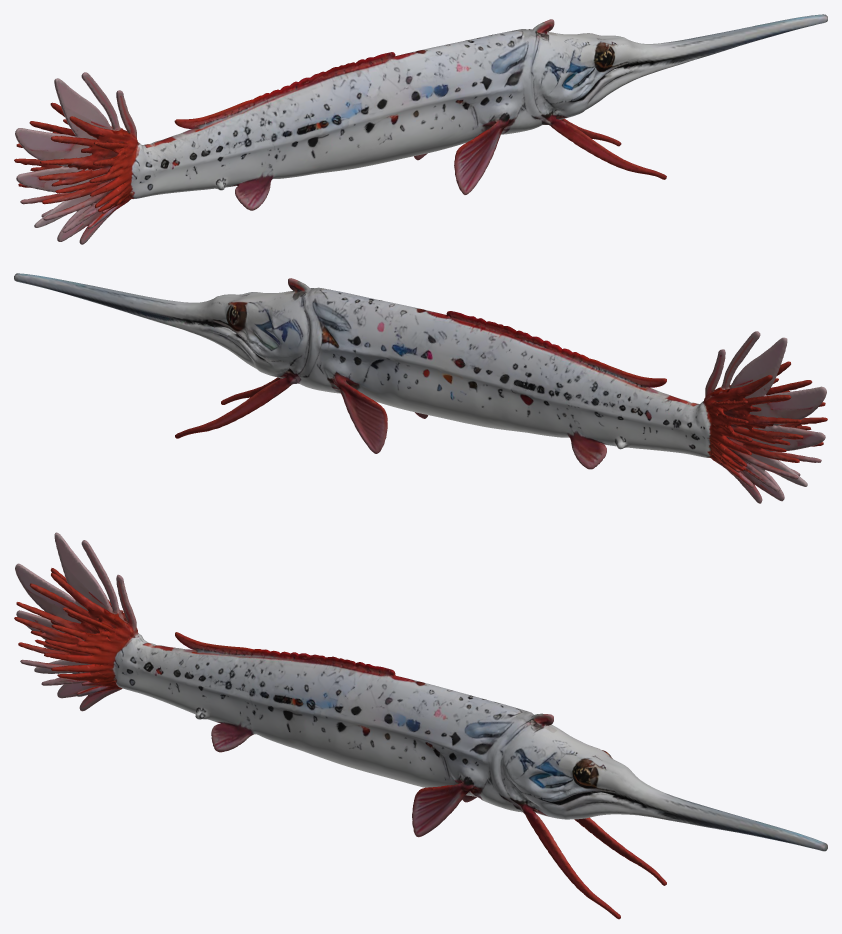
Rendered from oar_b.glb.
The picture shows the model from 3 angles, top to bottom: view 1: azimuth 30°, elevation 25°; view 2: azimuth 150°, elevation 25°; view 3: azimuth 330°, elevation 25°; orthographic projection.
Visible parts, largest first — view 1: tripo_node_e1db38b4-6c66-4184-b2c8-56818ab8327f; view 2: tripo_node_e1db38b4-6c66-4184-b2c8-56818ab8327f; view 3: tripo_node_e1db38b4-6c66-4184-b2c8-56818ab8327f.
Boxes of the visible parts, bbox=[...] form: tripo_node_e1db38b4-6c66-4184-b2c8-56818ab8327f: bbox=[14, 14, 827, 244]; tripo_node_e1db38b4-6c66-4184-b2c8-56818ab8327f: bbox=[14, 273, 827, 503]; tripo_node_e1db38b4-6c66-4184-b2c8-56818ab8327f: bbox=[14, 532, 827, 919].
Size of the model in its own units: 1 by 0.2673 by 0.1065.
Materials: 1 (1 with a texture image).
